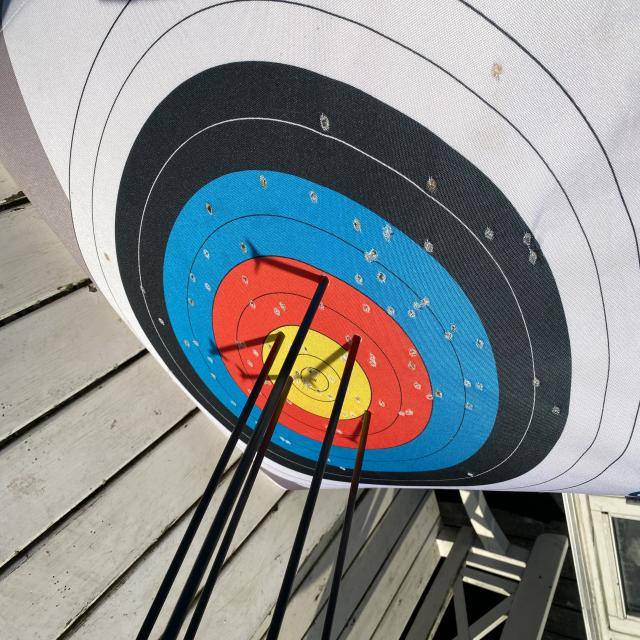Arrow_Red: (301, 251, 342, 312), (339, 309, 371, 362), (355, 394, 388, 441)
Arrow_Yellow: (258, 312, 292, 354), (275, 365, 308, 404)
